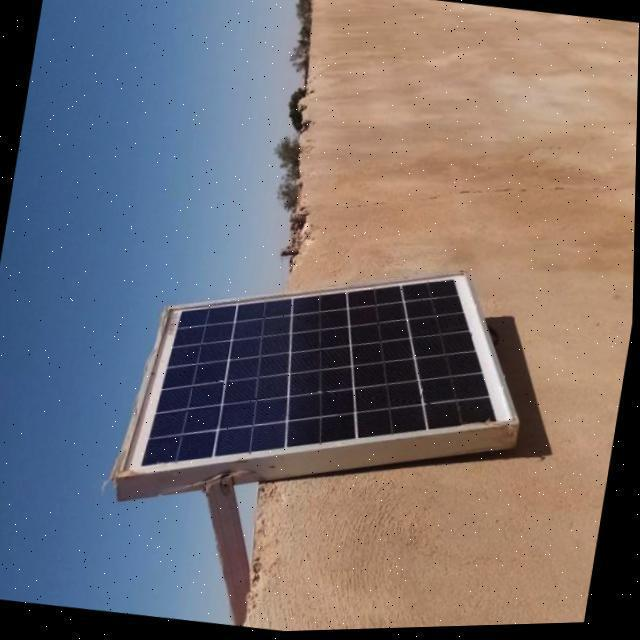Normal Solar Panel: (118, 228, 540, 530)
